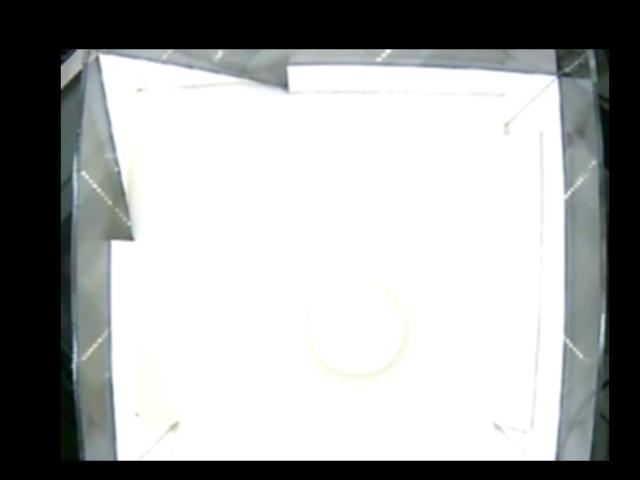Mooli: (304, 278, 405, 374)
